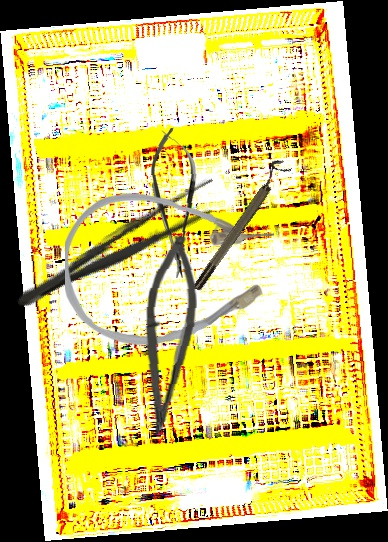Cannula: (65, 193, 274, 345)
Dressing Forceps: (9, 172, 227, 321)
Fixation Ring: (185, 155, 293, 294)
Micro Scissor: (139, 234, 201, 438), (148, 126, 201, 280)
